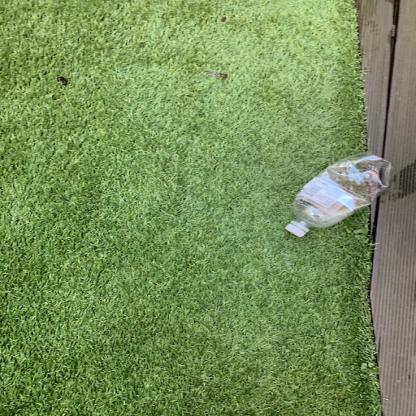trash: (281, 152, 395, 241)
